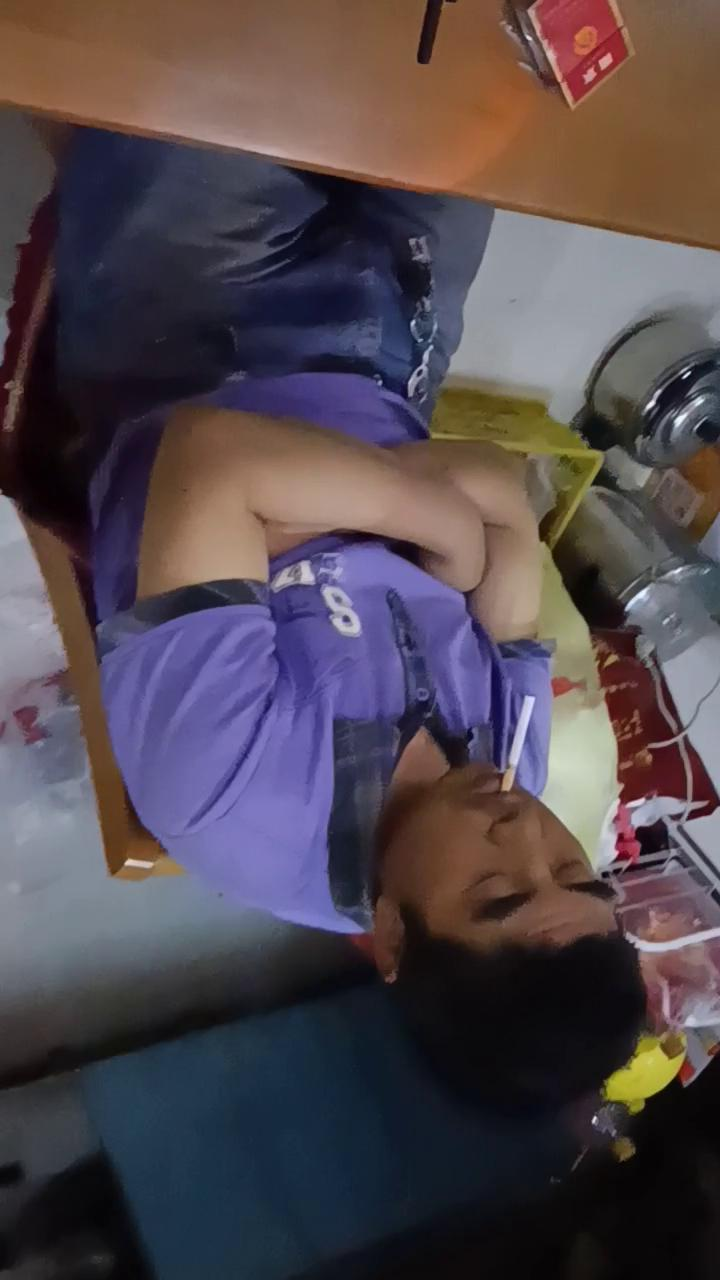smoke: (500, 694, 538, 792)
